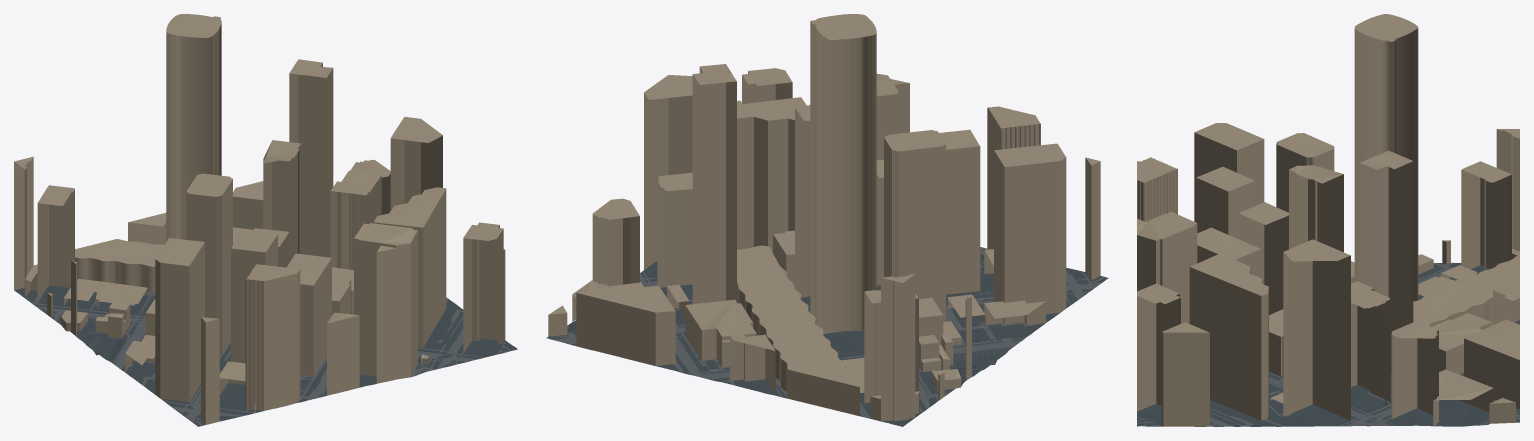
The model's file is epsg26910-1440-10892.lod1-4m.glb.
3 views of the same model, side by side, from view 1: azimuth 30°, elevation 25°; view 2: azimuth 150°, elevation 25°; view 3: azimuth 270°, elevation 25° (orthographic). The views are drawn at different scales.
Visible parts, largest first — view 1: epsg26910-1440-10892-lod1; view 2: epsg26910-1440-10892-lod1; view 3: epsg26910-1440-10892-lod1.
Part boxes in pixels (box(x1,y1,x2,y2)): epsg26910-1440-10892-lod1: box(14, 14, 517, 426); epsg26910-1440-10892-lod1: box(546, 14, 1108, 426); epsg26910-1440-10892-lod1: box(1137, 14, 1519, 426).
Bounding box in the file's own units: 384 × 333 × 384.
